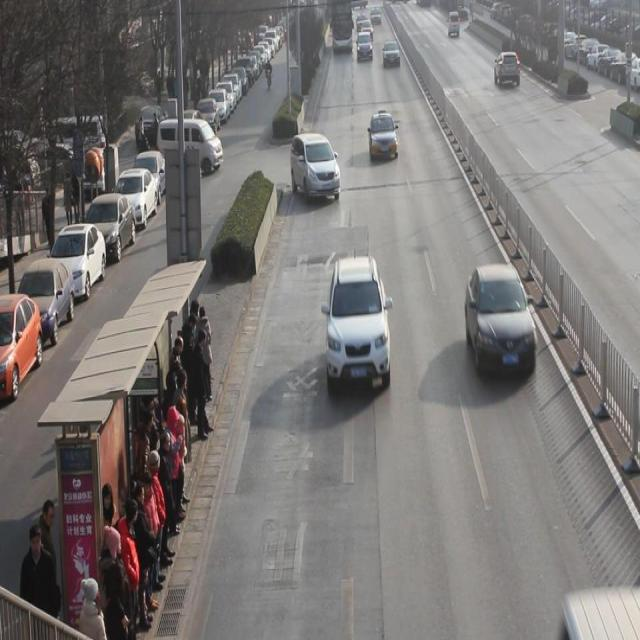car: (326, 256, 392, 393), (466, 263, 537, 381), (290, 131, 340, 203), (368, 112, 399, 162), (494, 50, 521, 89), (382, 40, 401, 69)
